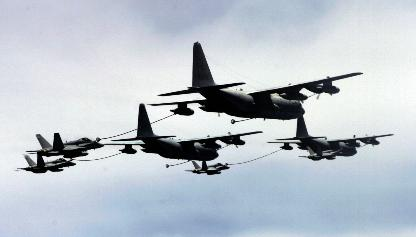Be200: (146, 40, 364, 119), (103, 102, 263, 161), (265, 115, 394, 156)
F15: (22, 131, 104, 157), (14, 154, 76, 173), (182, 159, 230, 174), (298, 145, 342, 160)
